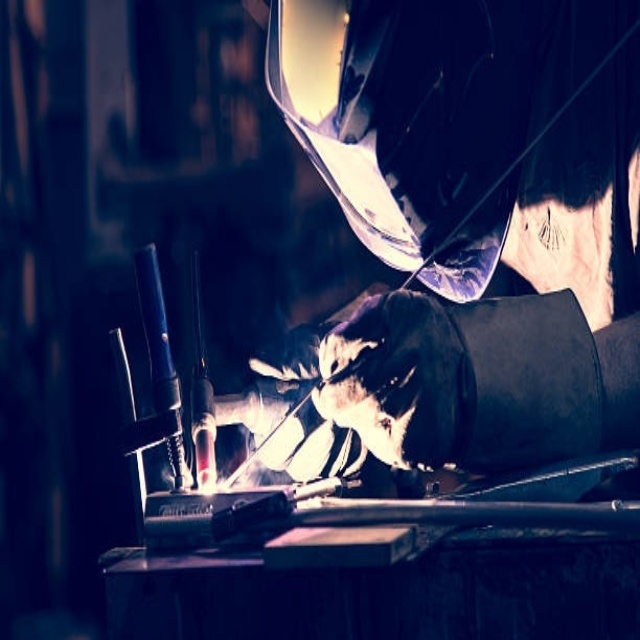Guantes: (322, 283, 615, 495), (243, 288, 366, 493)
